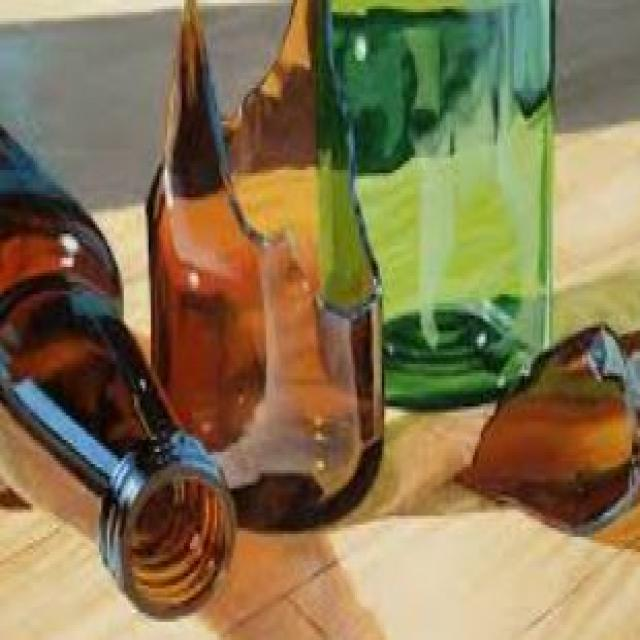electronic: (0, 114, 238, 626)
